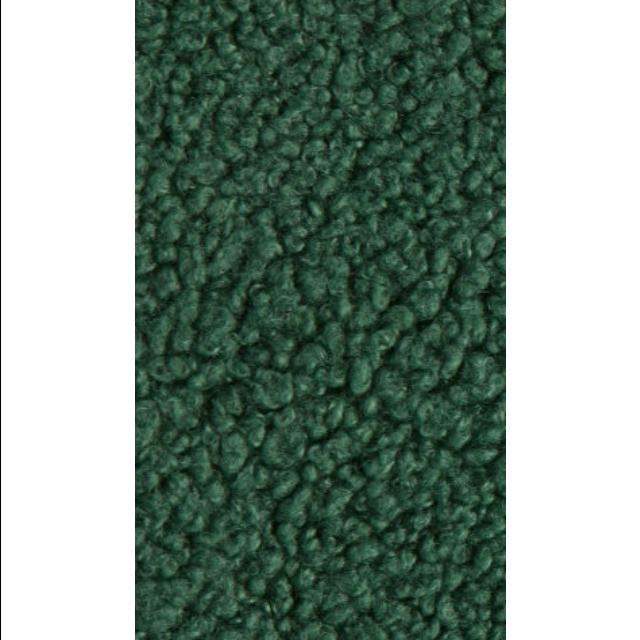polyester: (134, 0, 506, 640)
